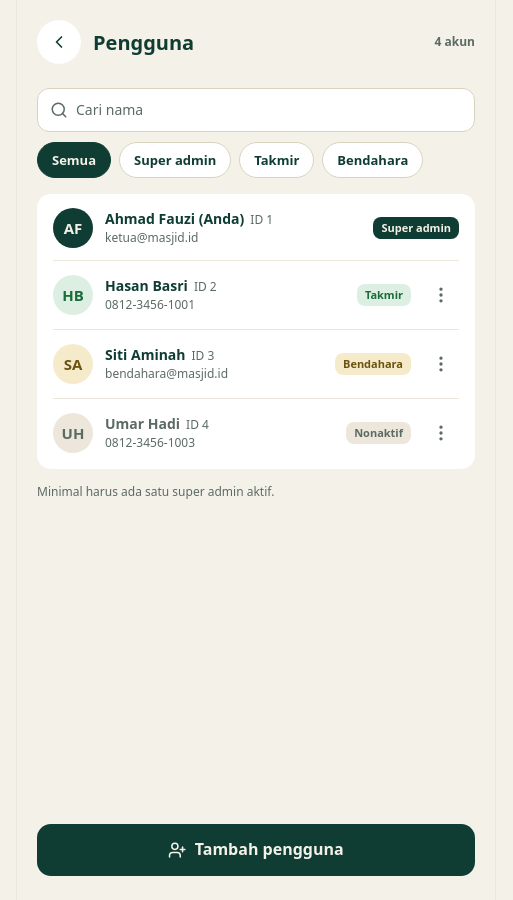
Scenario: UsersPage › offers to clear a filter that matches nobody
Type "tidak ada" into the search field named "Cari pengguna" at point(273, 110), box [76,100,470,120]
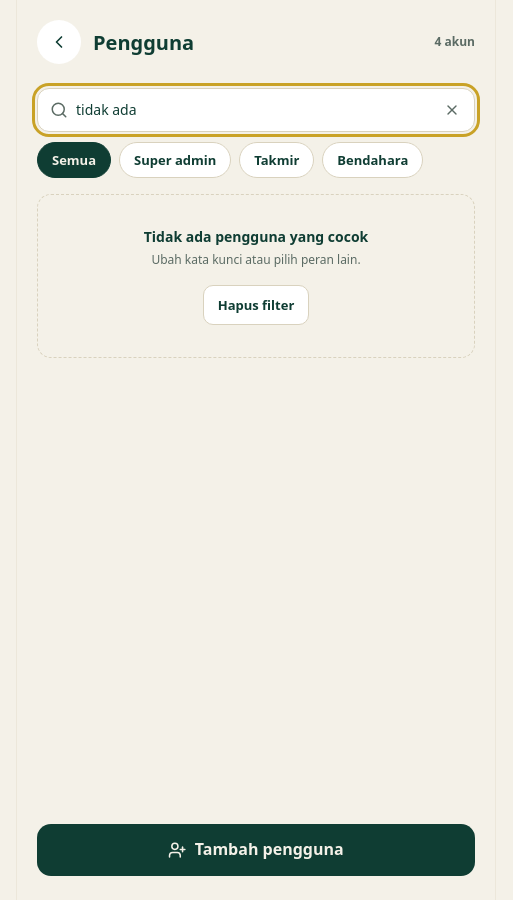
Now the text "Tidak ada pengguna yang cocok" is shown, box [144,227,368,247]
Click the button "Hapus filter" at point(256, 305), box [203,285,309,325]
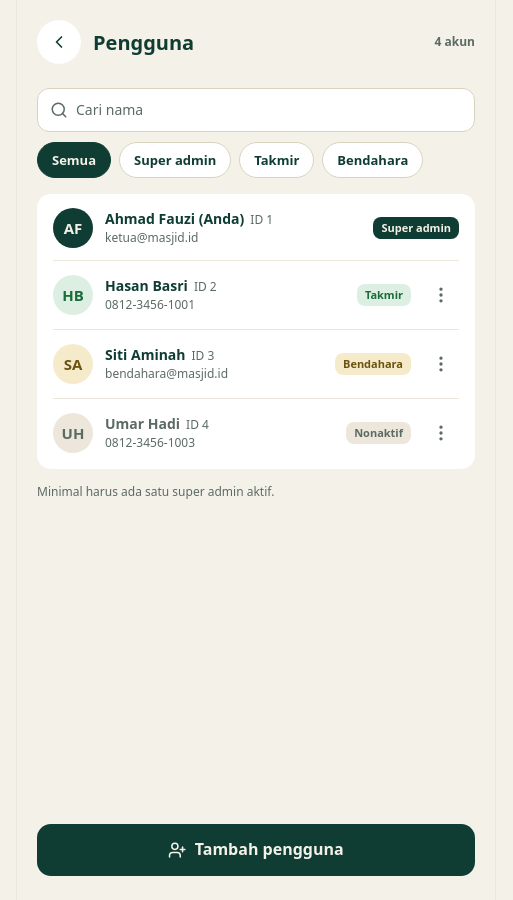
Now the number of list items is 4, box [53,196,459,261]; [53,261,459,330]; [53,330,459,399]; [53,399,459,467]
